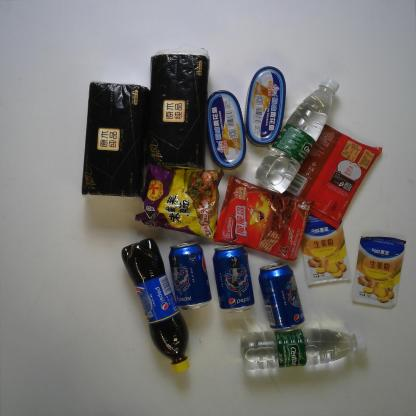Canned Food: (245, 66, 287, 147), (205, 89, 244, 171)
Dessert: (290, 124, 382, 226), (215, 175, 312, 261)
Drink: (255, 76, 341, 192), (121, 238, 192, 374), (240, 328, 367, 371), (257, 262, 304, 333), (211, 245, 255, 314), (169, 241, 210, 311)
Instant Noodles: (134, 162, 225, 240)
Seasoner: (350, 236, 407, 308), (300, 214, 348, 286)
Tissue: (82, 79, 149, 198), (149, 47, 212, 171)
